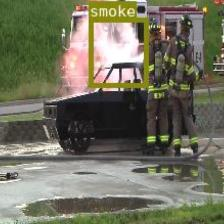smoke: (88, 16, 148, 87)
